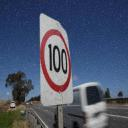speed_limit_100: (39, 11, 76, 107)
